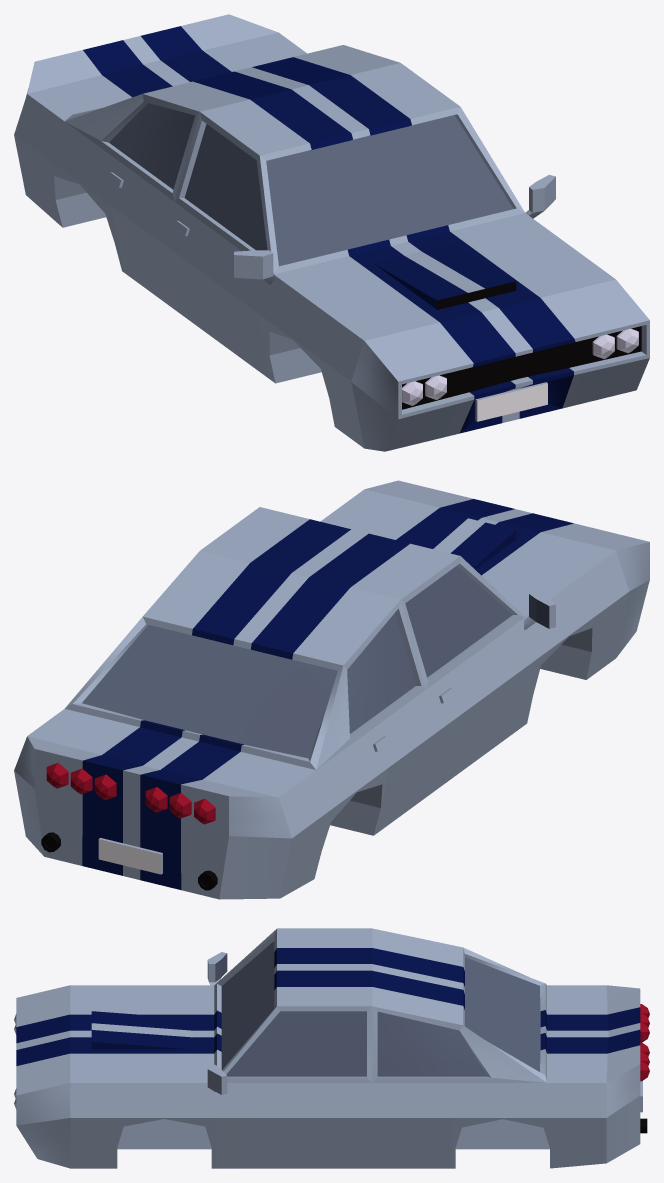
File: Muscle 2 Body Subdivided.fbx
The picture shows the model from 3 angles, top to bottom: view 1: azimuth 30°, elevation 25°; view 2: azimuth 150°, elevation 25°; view 3: azimuth 270°, elevation 25°; orthographic projection. The views are drawn at different scales.
Visible parts, largest first — view 1: Muscle 2; view 2: Muscle 2; view 3: Muscle 2.
Boxes of the visible parts, left/top/right/bottom form: Muscle 2: left=14, top=14, right=649, bottom=451; Muscle 2: left=14, top=480, right=649, bottom=899; Muscle 2: left=14, top=928, right=649, bottom=1168.
Bounding box in the file's own units: 281 × 160 × 606.
